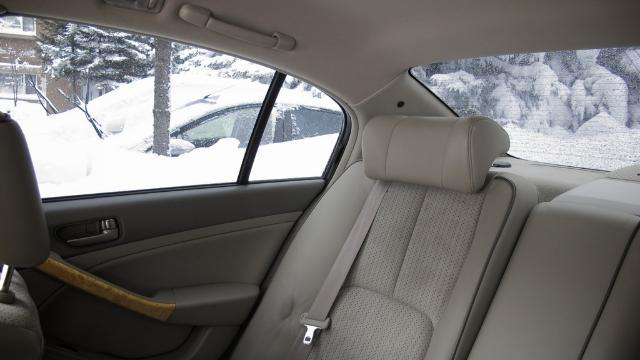Seatbelt: (288, 180, 394, 358), (290, 181, 392, 359)
